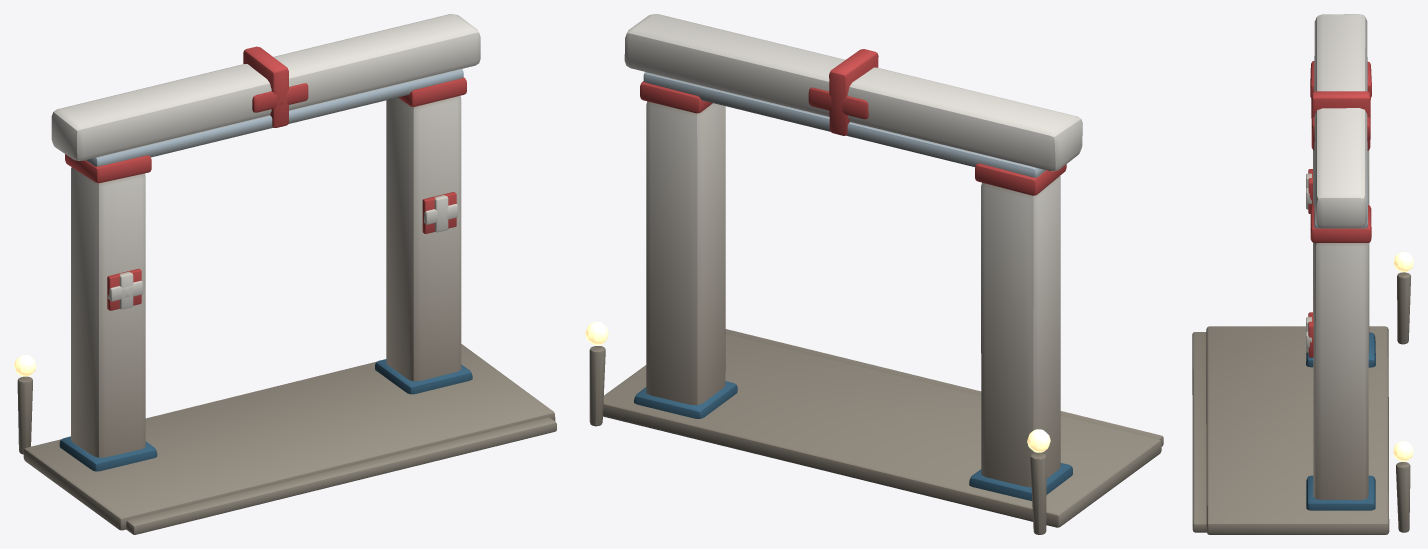
3 views of the same model, side by side, from view 1: azimuth 30°, elevation 25°; view 2: azimuth 150°, elevation 25°; view 3: azimuth 270°, elevation 25° (orthographic). The views are drawn at different scales.
Parts seen in each view (by area): view 1: gate_013017ce; view 2: gate_013017ce; view 3: gate_013017ce.
Part boxes in pixels (x1,y1,x2,y2): gate_013017ce: (14,14,556,534); gate_013017ce: (585,14,1163,534); gate_013017ce: (1192,14,1413,534).
Size of the model in its own units: 5.42 by 4.37 by 2.55.
